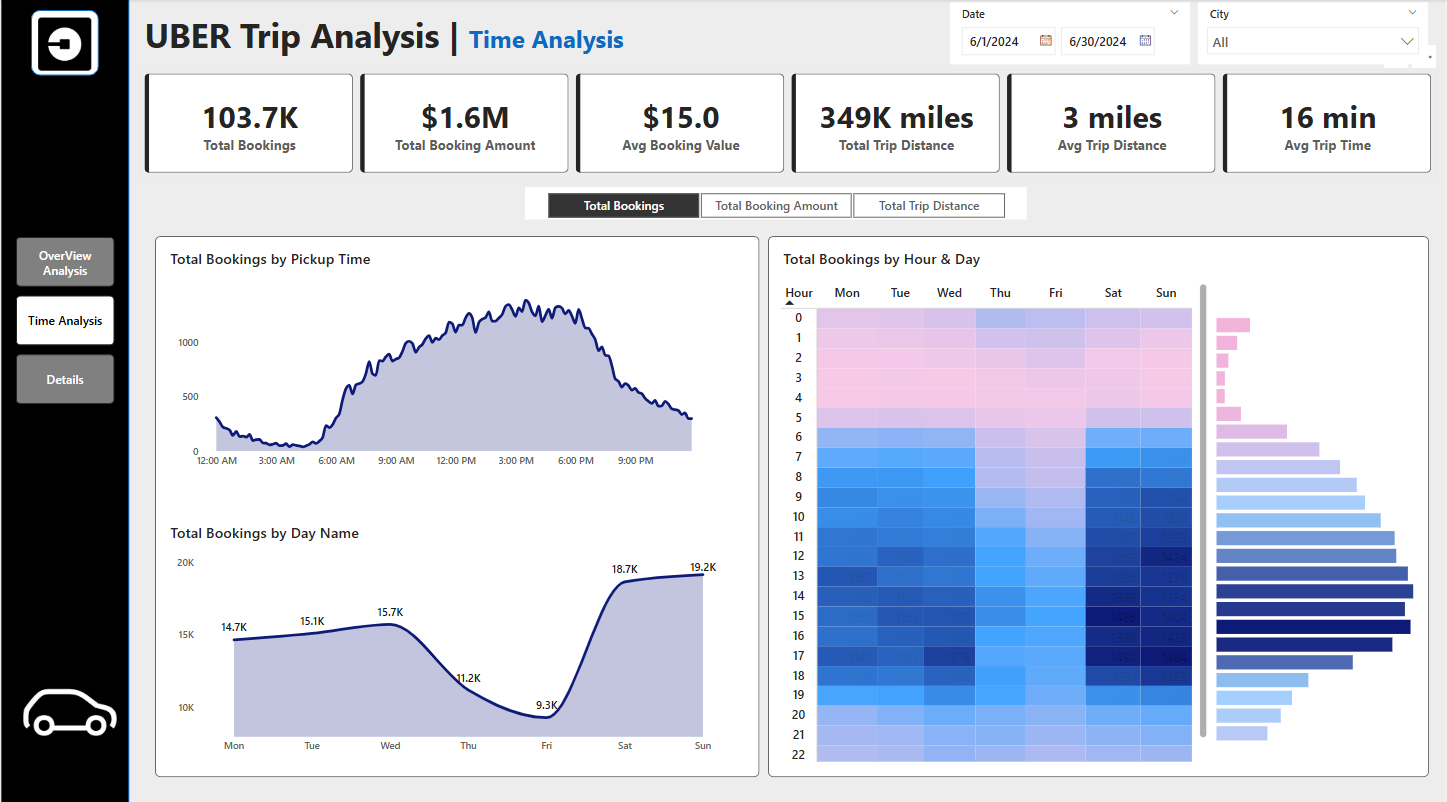

This screenshot's page, from the dashboard's own definition file:
{"tool":"powerbi","page":{"name":"Time Analysis","canvas":[1600,900],"ordinal":1},"visuals":[{"type":"shape","box":[170.6,263.1,670.1,599.9],"z":0},{"type":"slicer","fields":{"Values":["Dynamic Measure.Dynamic Measure"]},"box":[581.2,207.9,555.6,36.5],"z":1000},{"type":"shape","box":[0,0,142,899.7],"z":2000},{"type":"textbox","box":[154.4,8.5,738,60.8],"z":3000},{"type":"cardVisual","fields":{"Data":["Trip Details.Total Bookings","Trip Details.Total Booking Amount","Trip Details.Avg Booking Amount","Trip Details.Total Trip Distance","Trip Details.Avg Trip Distance","Trip Details.Avg Trip Time"]},"box":[154.4,77.8,1437.1,120.4],"z":4000},{"type":"slicer","fields":{"Values":["Calendar Table.Date"]},"box":[1051.7,3.6,266.3,69.3],"z":5000},{"type":"slicer","fields":{"Values":["Location Table.City"]},"box":[1326.4,3.6,255.3,69.3],"z":6000},{"type":"cardVisual","fields":{"Data":["Trip Details.Title for by Pickup Time"]},"box":[170.6,252,352.3,55.7],"z":7000},{"type":"areaChart","fields":{"Y":["Trip Details.Total Booking Amount"],"Category":["Trip Details.Pickup Hour (HH MM SS) (bins)"]},"box":[190.7,318.9,599.9,210.7],"z":8000},{"type":"areaChart","fields":{"Y":["Trip Details.Total Booking Amount"],"Category":["Calendar Table.Day Name"]},"box":[189.5,611,628.9,235.3],"z":9000},{"type":"cardVisual","fields":{"Data":["Trip Details.Title for by Day Name"]},"box":[170.6,555.3,320,55.7],"z":10000},{"type":"shape","box":[849.6,263.1,732.5,599.9],"z":11000},{"type":"pivotTable","fields":{"Values":["Trip Details.Total Booking Amount"],"Rows":["Trip Details.Pickup Hour"],"Columns":["Calendar Table.Day Name"]},"box":[859,310.3,483.3,539.8],"z":12000},{"type":"barChart","fields":{"Y":["Trip Details.Total Booking Amount"],"Category":["Trip Details.Pickup Hour"]},"box":[1342.2,340.3,230.5,506.5],"z":13000},{"type":"cardVisual","fields":{"Data":["Trip Details.Title for by Hour & Day"]},"box":[849.6,252,352.3,55.7],"z":14000},{"type":"shape","box":[33.5,12.3,75.1,72.5],"z":27000,"group":"g1"},{"type":"image","box":[11.2,15.5,119.4,69.2],"z":28000,"group":"g1"},{"type":"group","id":"g1","title":"Group 1","box":[11.2,12.3,119.4,72.5],"z":28001},{"type":"pageNavigator","box":[16.7,263.3,109.3,185.2],"z":28002},{"type":"image","box":[10,725.2,128.3,129.4],"z":28003}]}

Visuals, with their boxes on the page's 1600x900 design canvas (x1, y1, x2, y2). These are canvas units, not pixel positions in the 1447x802 screenshot, which may show the page scaled, cropped or inside an application window:
shape: 171, 263, 841, 863
slicer - Dynamic Measure.Dynamic Measure: 581, 208, 1137, 244
shape: 0, 0, 142, 900
textbox: 154, 8, 892, 69
cardVisual - Trip Details.Total Bookings x Trip Details.Total Booking Amount: 154, 78, 1592, 198
slicer - Calendar Table.Date: 1052, 4, 1318, 73
slicer - Location Table.City: 1326, 4, 1582, 73
cardVisual - Trip Details.Title for by Pickup Time: 171, 252, 523, 308
areaChart - Trip Details.Total Booking Amount x Trip Details.Pickup Hour (HH MM SS) (bins): 191, 319, 791, 530
areaChart - Trip Details.Total Booking Amount x Calendar Table.Day Name: 190, 611, 818, 846
cardVisual - Trip Details.Title for by Day Name: 171, 555, 491, 611
shape: 850, 263, 1582, 863
pivotTable - Trip Details.Total Booking Amount x Trip Details.Pickup Hour: 859, 310, 1342, 850
barChart - Trip Details.Total Booking Amount x Trip Details.Pickup Hour: 1342, 340, 1573, 847
cardVisual - Trip Details.Title for by Hour & Day: 850, 252, 1202, 308
shape: 34, 12, 109, 85
image: 11, 16, 131, 85
"Group 1" group: 11, 12, 131, 85
pageNavigator: 17, 263, 126, 448
image: 10, 725, 138, 855
